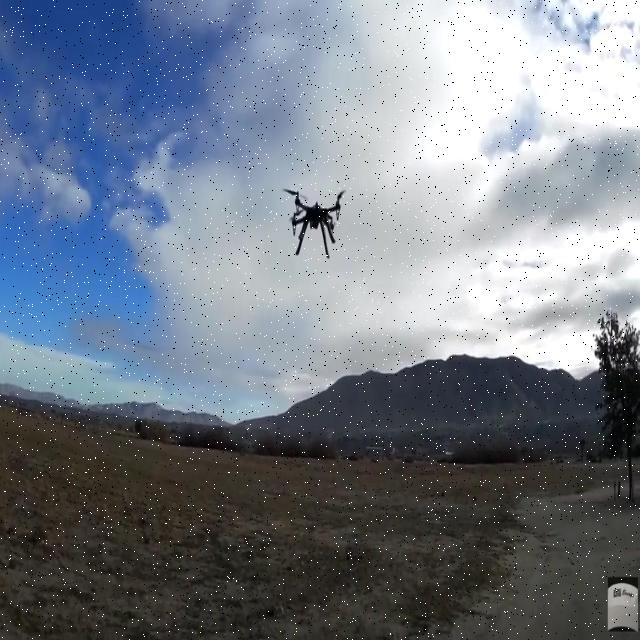UAV: (283, 186, 345, 258)
